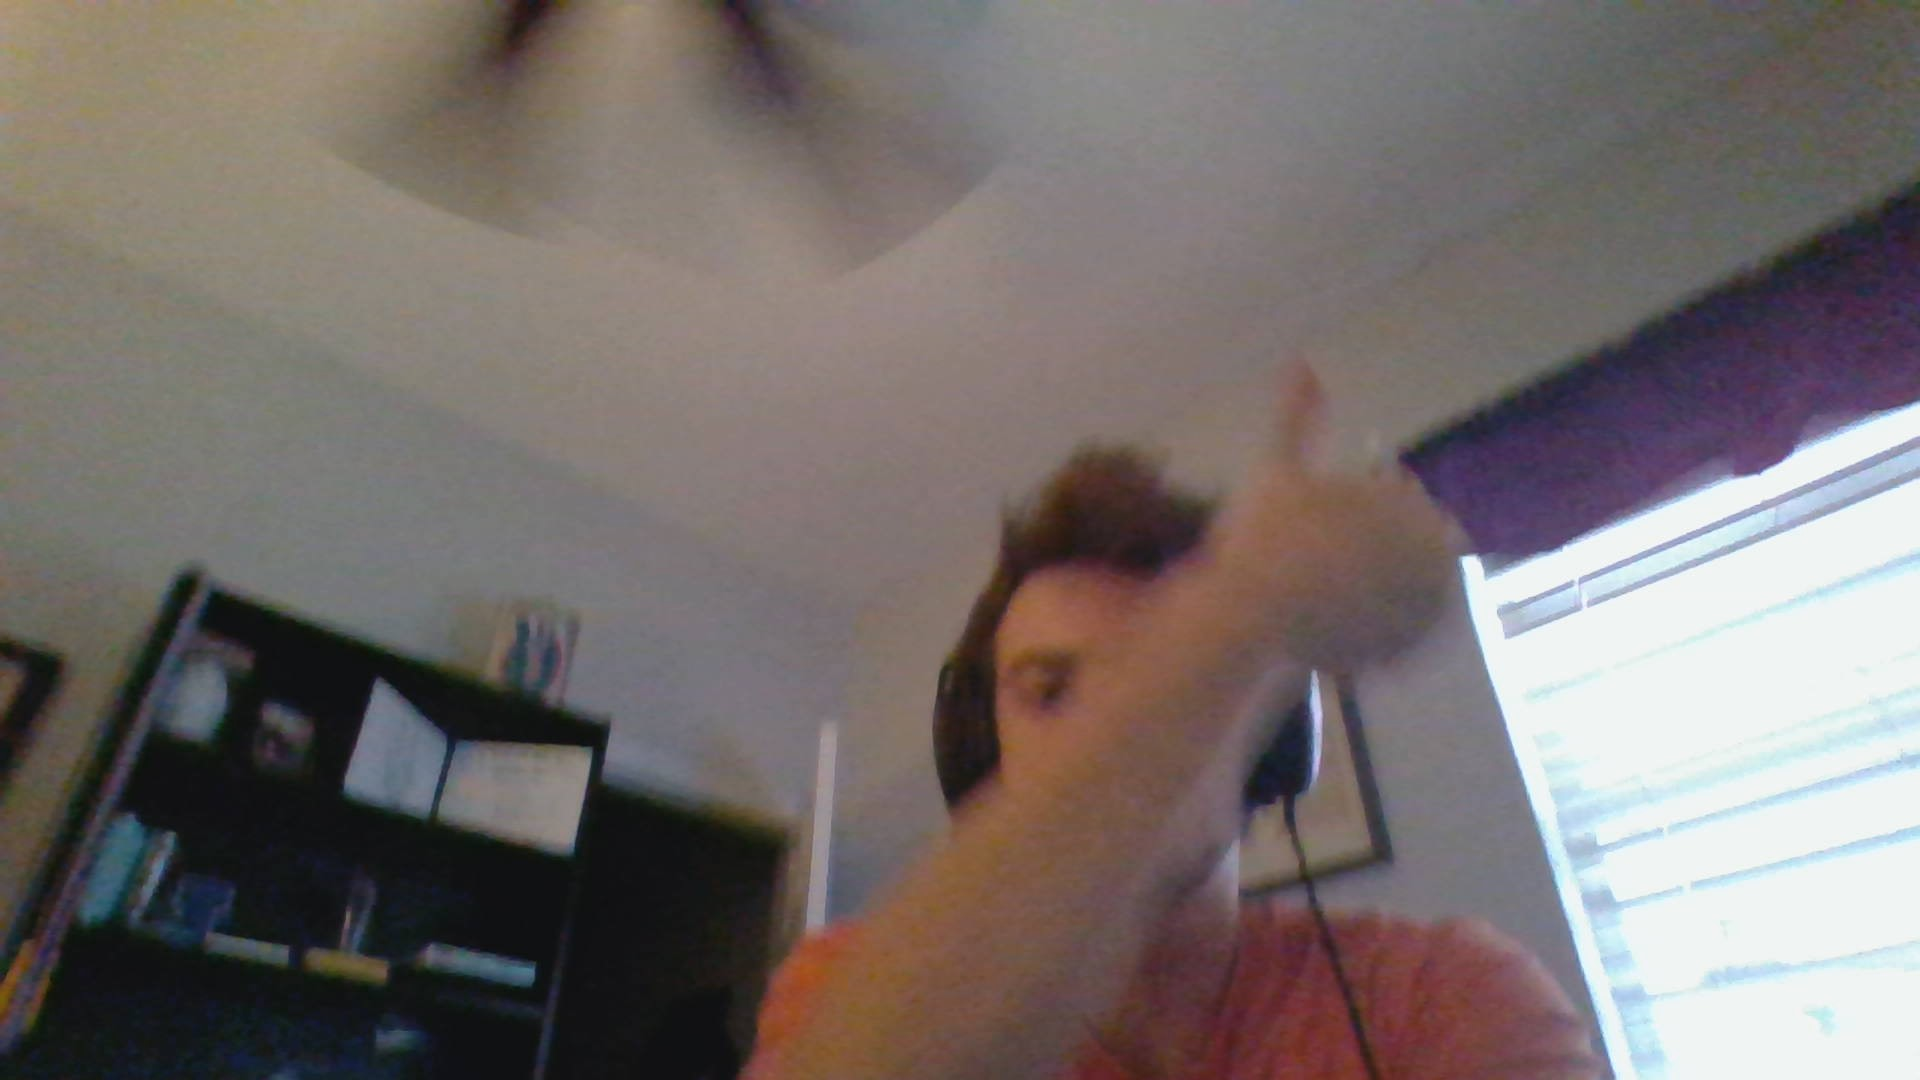Right Thumb Up: (1182, 336, 1472, 692)
